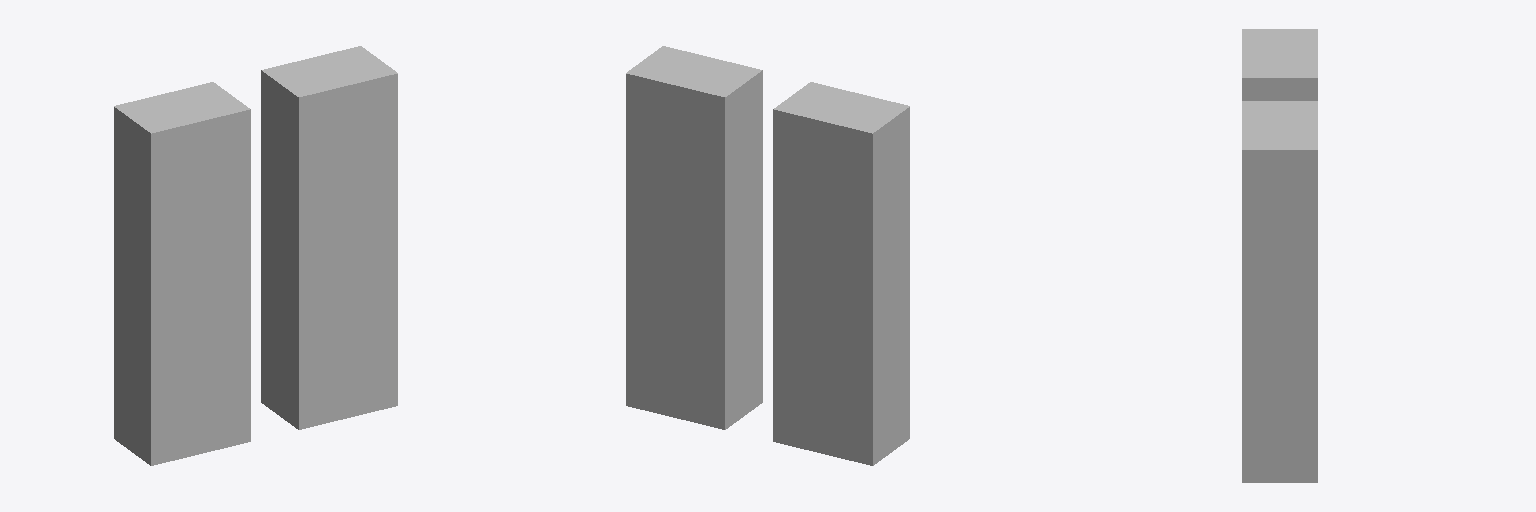
The model's file is pauseButton.obj.
The picture shows the model from 3 angles: view 1: azimuth 30°, elevation 25°; view 2: azimuth 150°, elevation 25°; view 3: azimuth 270°, elevation 25°; orthographic projection.
Parts seen in each view (by area): view 1: pCube2, pCube1; view 2: pCube2, pCube1; view 3: pCube2, pCube1.
Part boxes in pixels (x1,y1,x2,y2): pCube2: (261, 46, 397, 429); pCube1: (114, 82, 250, 465); pCube2: (626, 46, 762, 429); pCube1: (773, 82, 909, 465); pCube2: (1242, 101, 1317, 482); pCube1: (1242, 29, 1317, 100).
Size of the model in its own units: 0.6287 by 0.8076 by 0.1654.